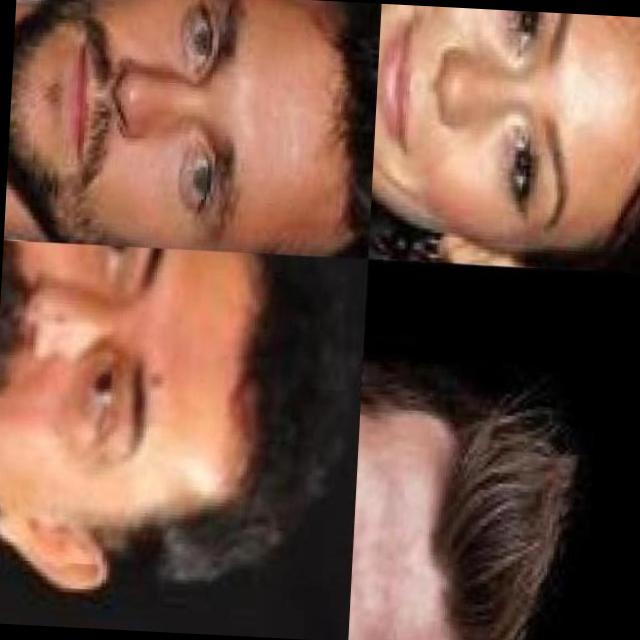bareface: (4, 0, 354, 246)
